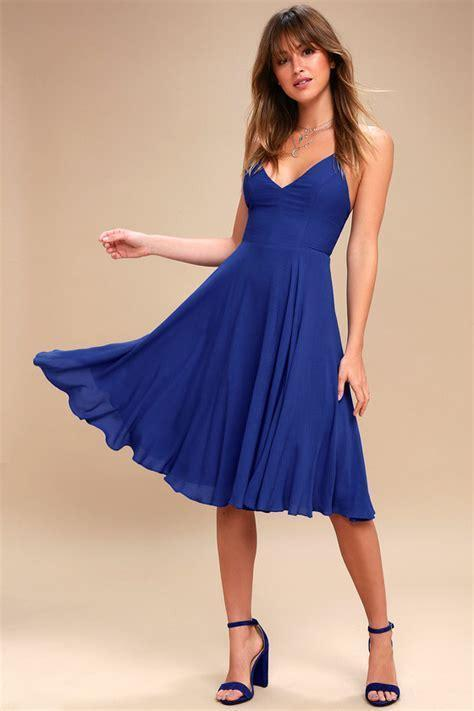dress: (34, 150, 376, 520)
